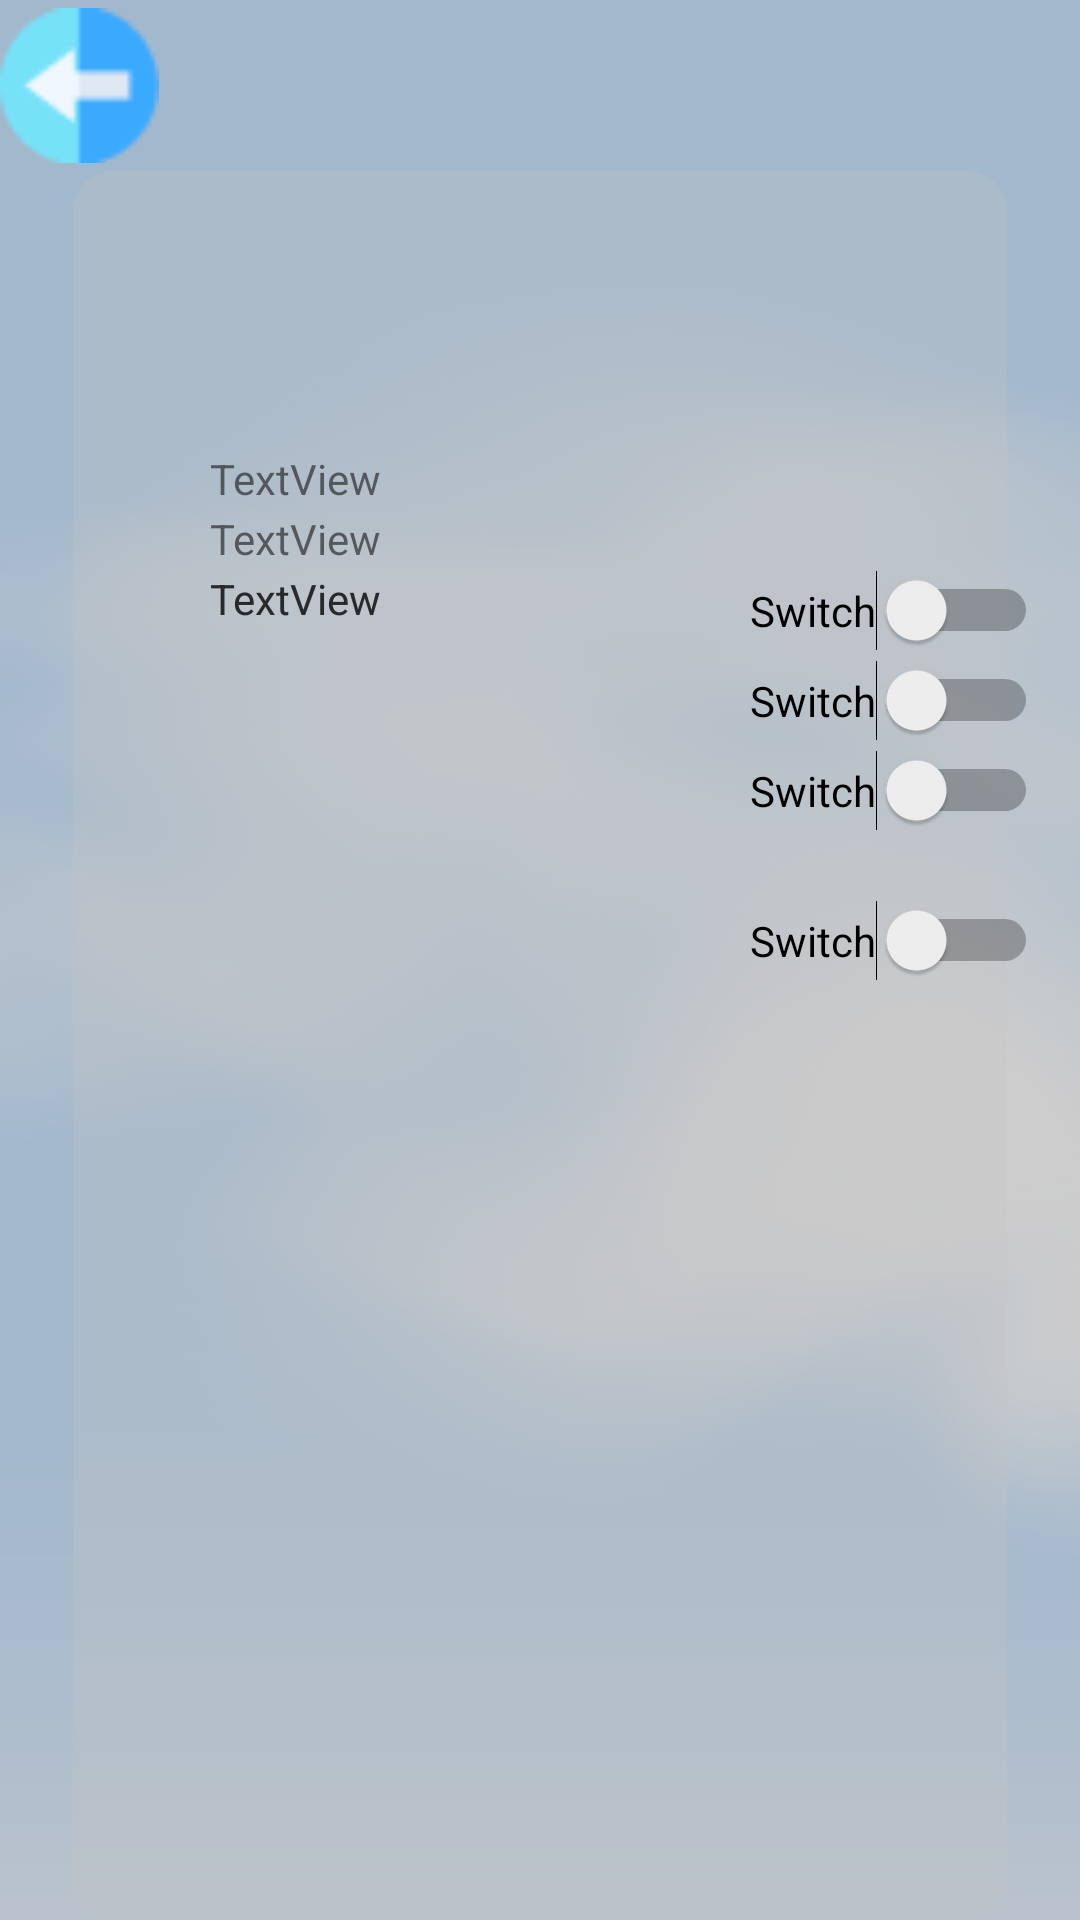

Named icons in this screenshot (1080 x 1920) and their bounding boxes, (x1, y1, x2, y2):
backar: (0, 8, 159, 163)
